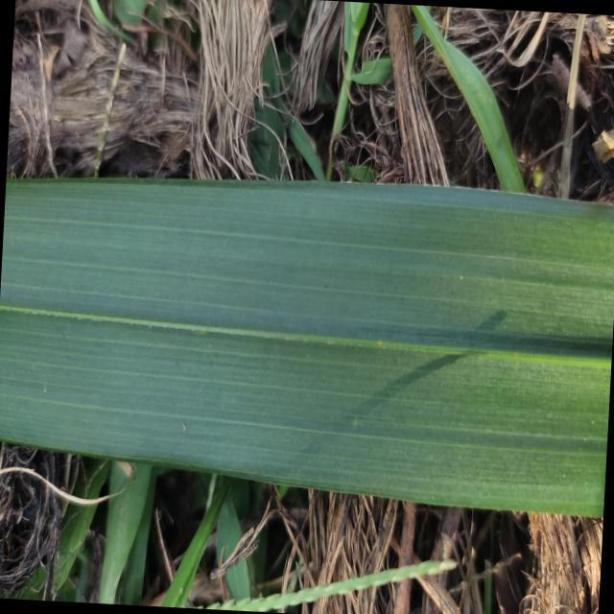Healthy: (0, 174, 614, 522)
